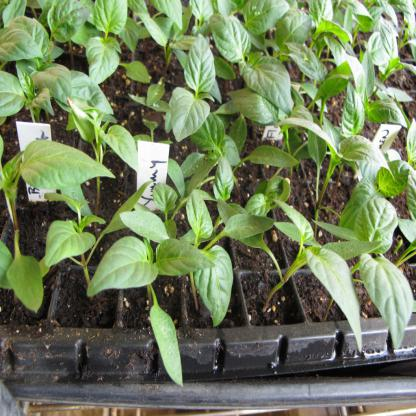Bell_pepper leaf: (306, 249, 366, 358), (358, 250, 413, 360), (23, 138, 119, 189), (85, 237, 152, 299), (238, 53, 293, 112), (197, 245, 232, 325), (113, 205, 173, 249), (335, 134, 394, 177), (353, 199, 399, 253), (158, 240, 215, 283), (183, 27, 219, 94), (207, 12, 254, 60), (163, 88, 209, 137), (280, 115, 337, 152), (48, 217, 95, 261), (6, 257, 44, 311), (33, 62, 73, 111), (224, 211, 277, 242), (1, 29, 46, 65), (273, 5, 310, 48), (86, 41, 121, 82), (186, 190, 214, 239), (93, 1, 129, 38), (1, 68, 25, 114), (215, 151, 233, 205)
